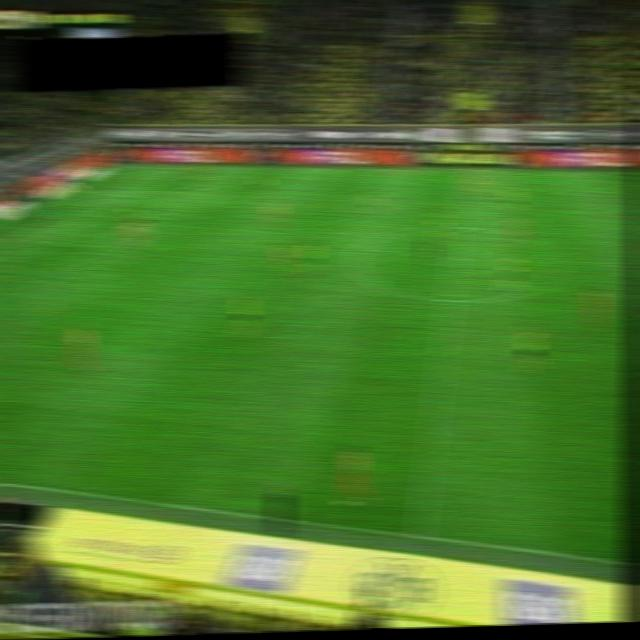bigarea_top_inner: (170, 185, 192, 201)
bigarea_top_outter: (60, 185, 81, 197)
bottom_arc_area_intersection: (47, 264, 74, 280)
corner: (109, 161, 130, 173)
halfcircle_bottom: (437, 293, 461, 307)
halfcircle_top: (446, 220, 470, 234)
midline_bottom_intersection: (407, 526, 432, 545)
midline_top_intersection: (456, 162, 477, 175)
smallarea_top_inner: (47, 209, 68, 223)
smallarea_top_outter: (8, 209, 29, 221)
top_arc_area_intersection: (125, 215, 147, 227)
